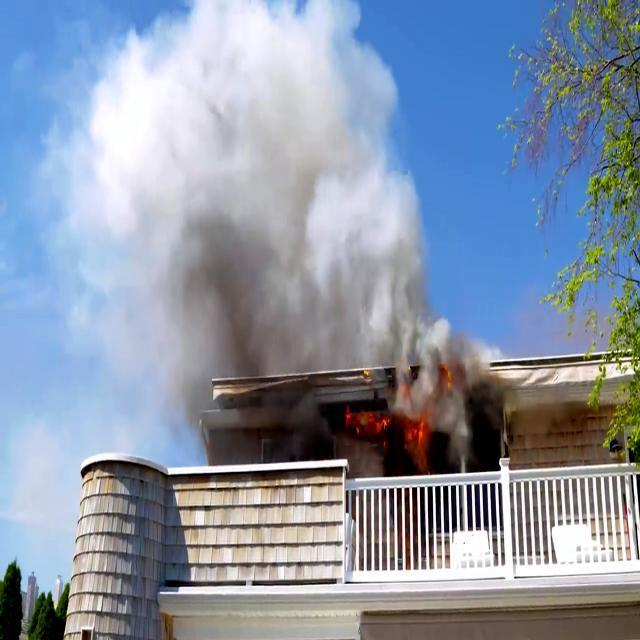Fire: (341, 404, 396, 436)
Smoke: (100, 0, 456, 351), (406, 320, 504, 469), (246, 390, 378, 475)
